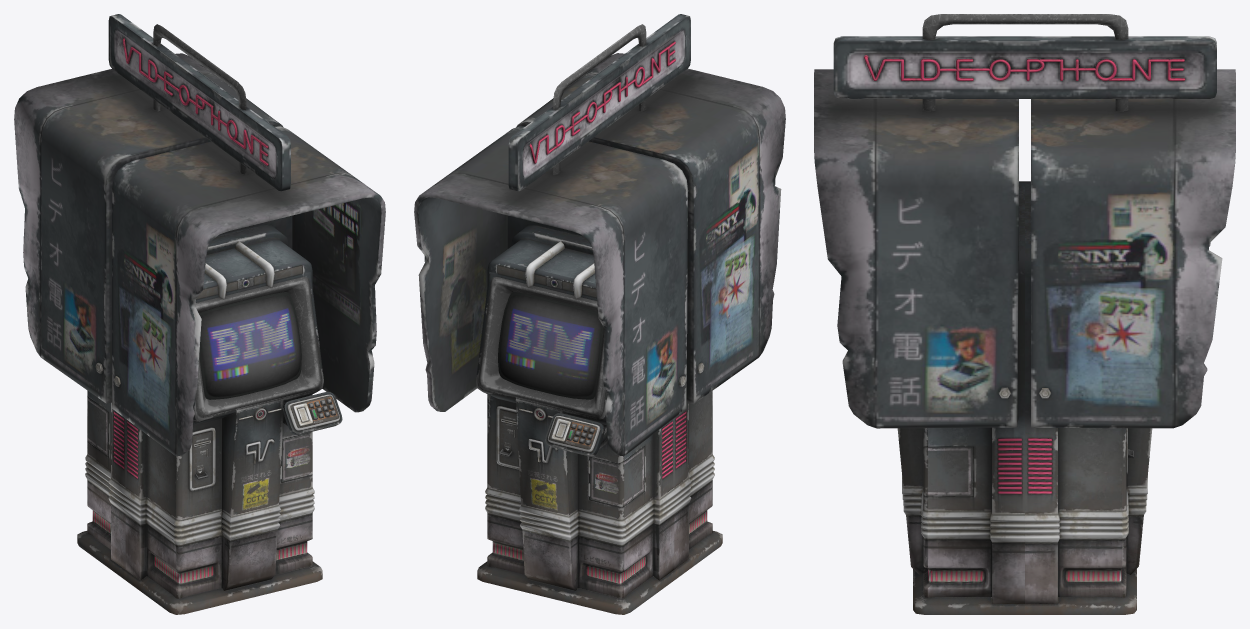
Rendered from videophone.gltf.
The picture shows the model from 3 angles, left to right: view 1: azimuth 30°, elevation 25°; view 2: azimuth 150°, elevation 25°; view 3: azimuth 270°, elevation 25°; orthographic projection. The views are drawn at different scales.
Parts seen in each view (by area): view 1: Object001; view 2: Object001; view 3: Object001.
Part boxes in pixels (x1,y1,x2,y2): Object001: [14, 14, 385, 614]; Object001: [414, 14, 785, 614]; Object001: [814, 14, 1235, 614].
Bounding box in the file's own units: 0.7652 × 2 × 1.37.
1 material, 1 textured.
